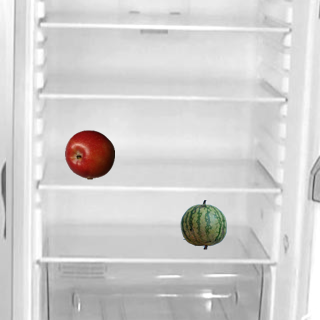Apple Braeburn: (64, 129, 114, 179)
Watermelon: (178, 199, 228, 249)
